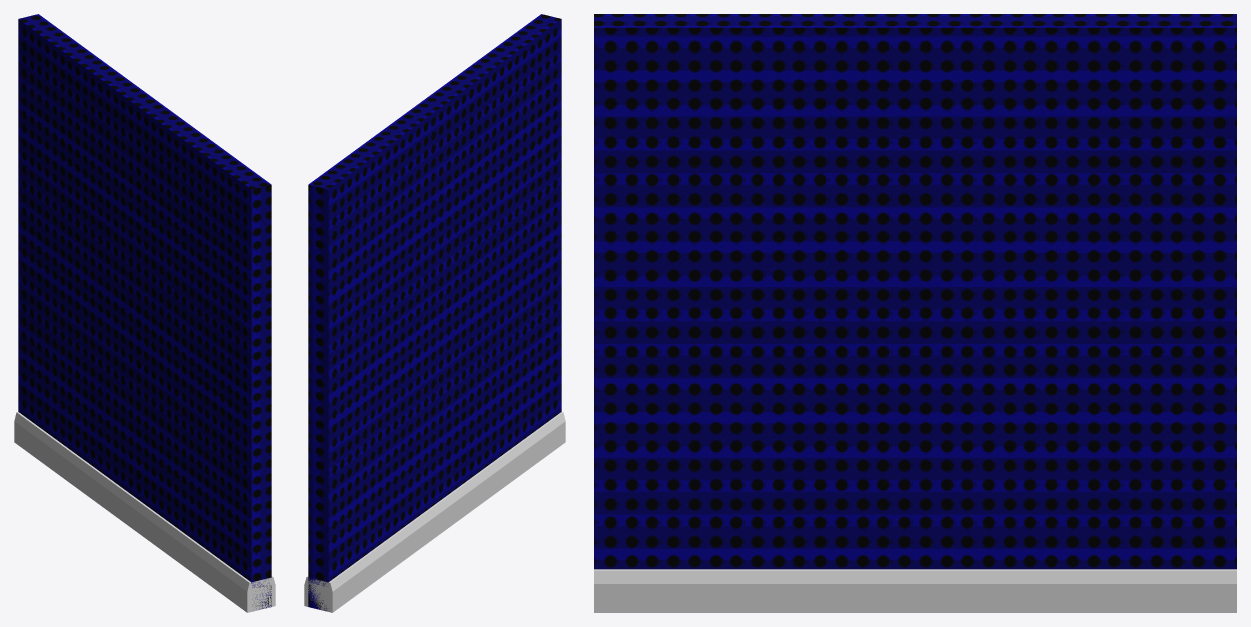
Rendered from WallStraight.fbx.
3 views of the same model, side by side, from view 1: azimuth 30°, elevation 25°; view 2: azimuth 150°, elevation 25°; view 3: azimuth 270°, elevation 25° (orthographic). The views are drawn at different scales.
Visible parts, largest first — view 1: Wall 1; view 2: Wall 1; view 3: Wall 1.
Boxes of the visible parts, <box> form: Wall 1: <box>14,14,275,612</box>; Wall 1: <box>304,14,565,612</box>; Wall 1: <box>594,14,1236,612</box>.
Size of the model in its own units: 70 by 1000 by 1000.
2 materials, 1 textured.
